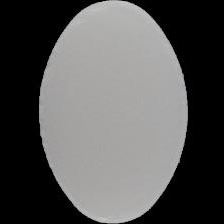54868-5268: (0, 0, 224, 224)
